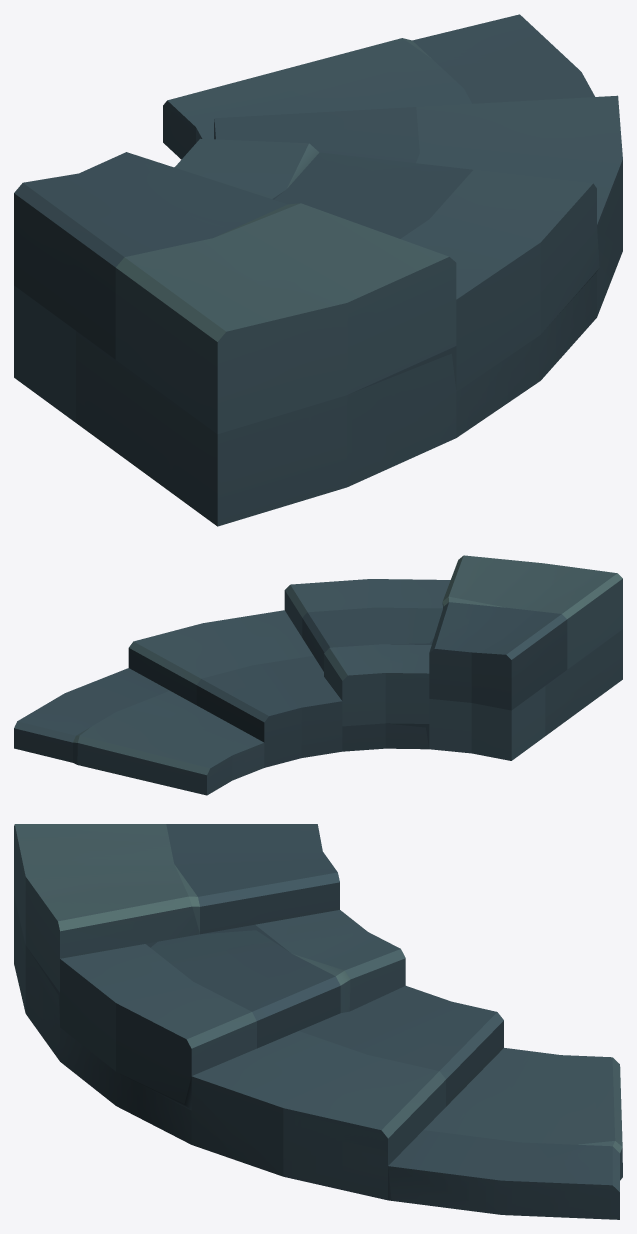
The model's file is stair_round.fbx.
The picture shows the model from 3 angles, top to bottom: view 1: azimuth 30°, elevation 25°; view 2: azimuth 150°, elevation 25°; view 3: azimuth 270°, elevation 25°; orthographic projection. The views are drawn at different scales.
Parts seen in each view (by area): view 1: stair_round; view 2: stair_round; view 3: stair_round.
Boxes of the visible parts, x1,y1,x2,y2 form: stair_round: (14,14,622,526); stair_round: (14,555,622,795); stair_round: (14,824,622,1219).
Size of the model in its own units: 400 by 104 by 402.
